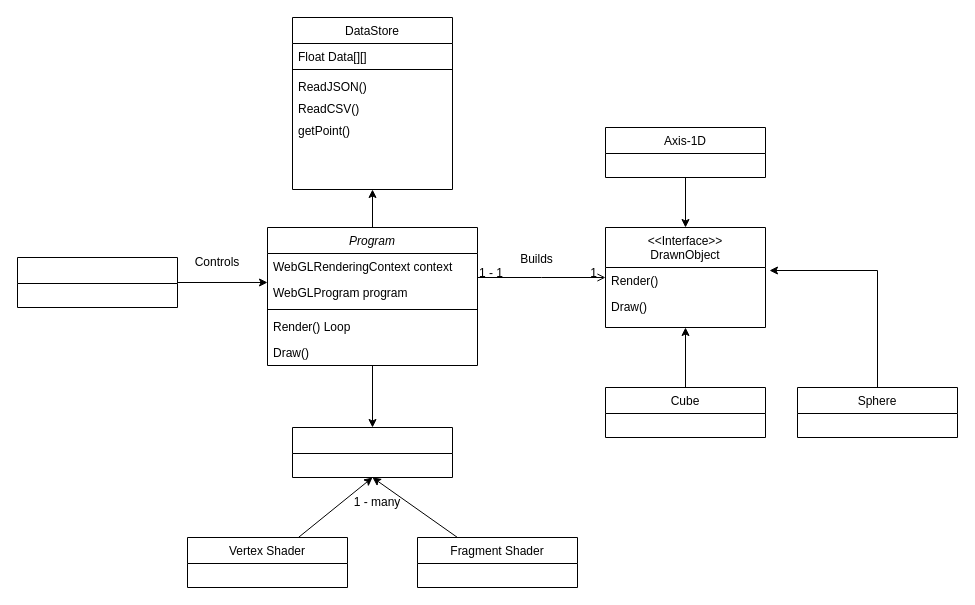
The diagram is 975 pixels wide and 605 high, and some of its shapes have lost their labels. The centre of each missing label's shape, as x and y in pixels:
ShaderFactory: (372,452)
UIController: (97,282)
